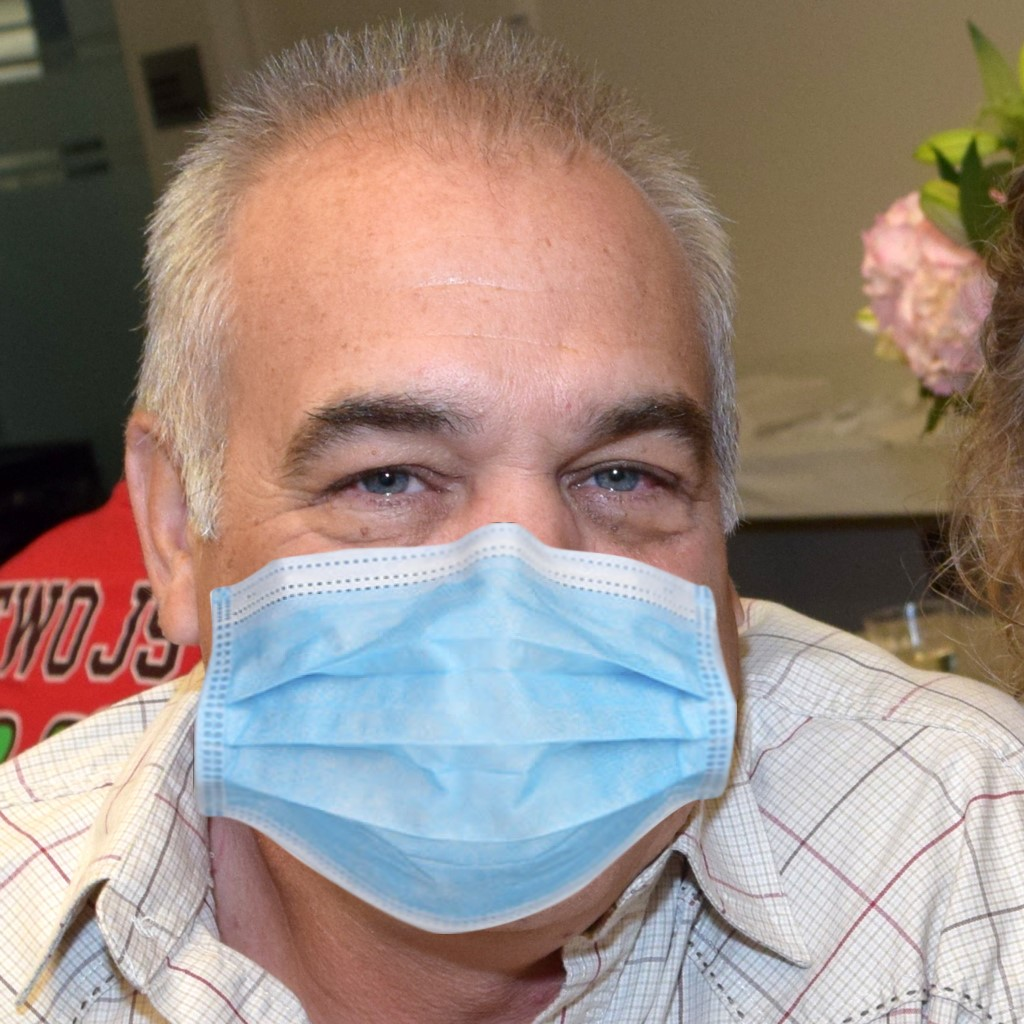con_mascara: (174, 87, 761, 953)
